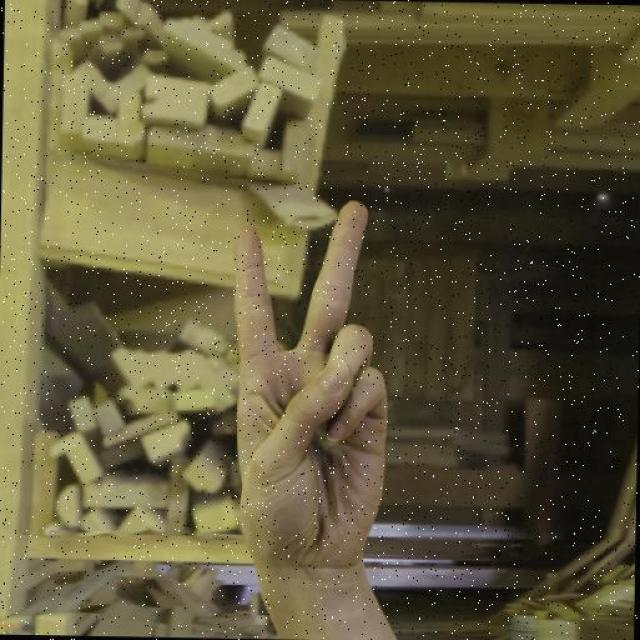V: (223, 192, 398, 569)
